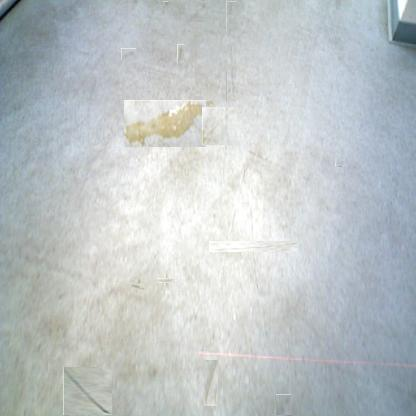liquid: (124, 100, 206, 147), (206, 100, 214, 106)
mark: (229, 221, 279, 272), (64, 367, 112, 416), (202, 107, 237, 145), (226, 1, 236, 101), (204, 360, 218, 406), (186, 0, 207, 22), (275, 394, 291, 415), (248, 147, 268, 163), (121, 48, 136, 59), (132, 280, 144, 292), (177, 44, 184, 63), (161, 275, 172, 286), (336, 160, 345, 169), (162, 1, 168, 6)
